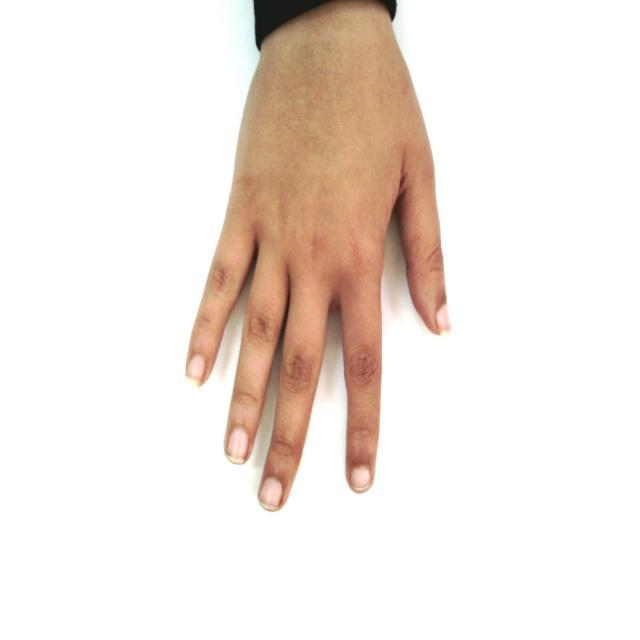Fingernail: (260, 478, 282, 508), (228, 429, 248, 461), (352, 466, 371, 491), (188, 355, 204, 383), (437, 305, 451, 333)
